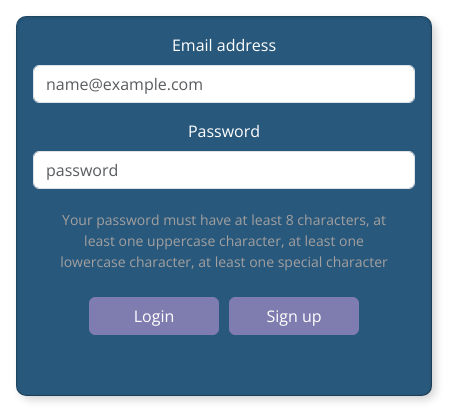
Test: Login Component › should render error message for invalid password format
This screenshot has width=456, height=420.
Type "valid@valid.com" into the field with placeholder "name@example.com" at (224, 84), box [33,65,415,103]
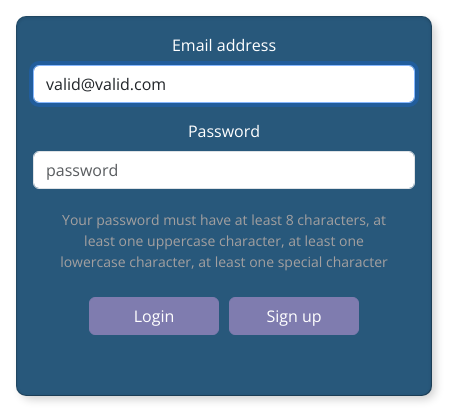
Type "invalid" into the password field with placeholder "Password" at (224, 170), box [33,151,415,189]
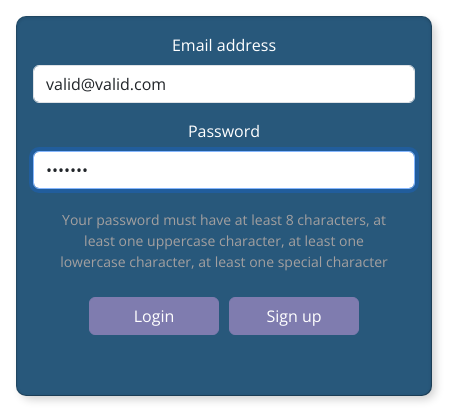
Click the button "Sign up" at (294, 316), box [229,297,359,335]
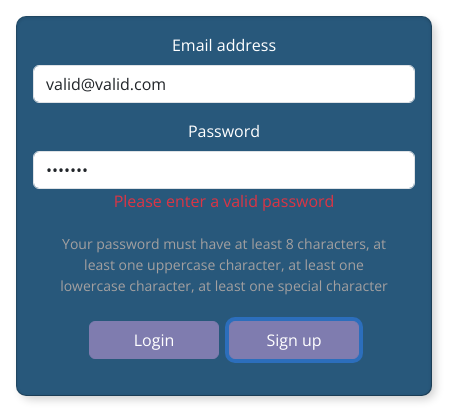
Expected: the text "Please enter a valid password" is shown, [114,190,334,212]
